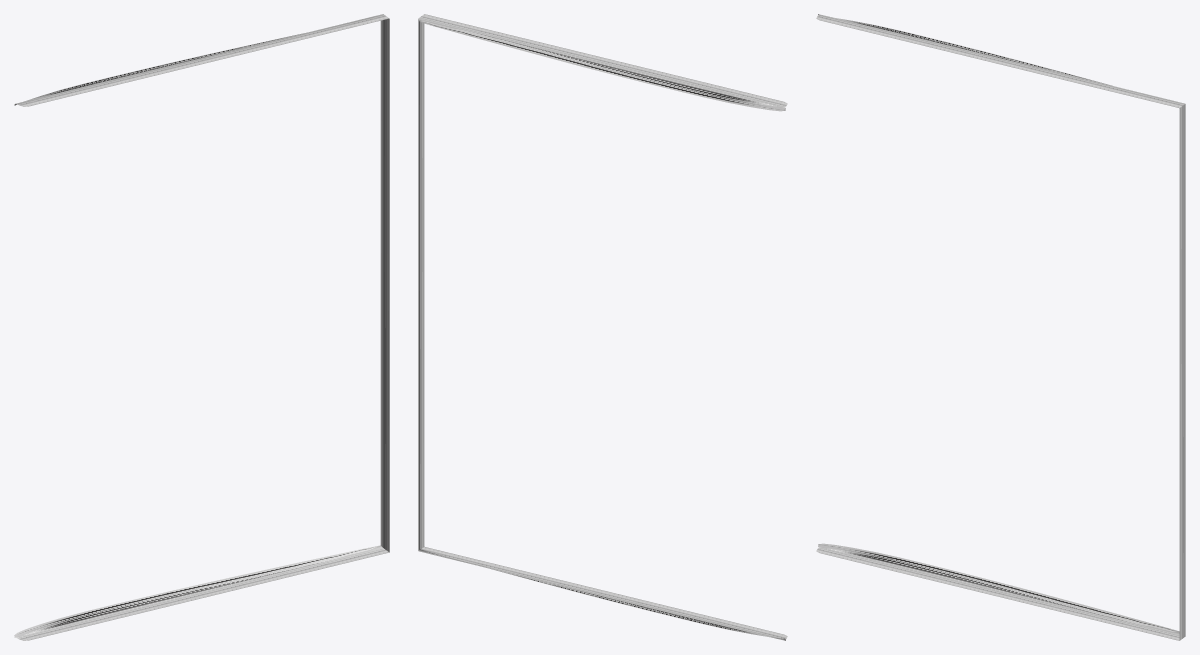
Rendered from MeshBookFront_21_1_GeomSubset_1.obj.
3 views of the same model, side by side, from view 1: azimuth 30°, elevation 25°; view 2: azimuth 150°, elevation 25°; view 3: azimuth 330°, elevation 25° (orthographic).
Visible parts, largest first — view 1: MeshBookFront_21_1_GeomSubset_1; view 2: MeshBookFront_21_1_GeomSubset_1; view 3: MeshBookFront_21_1_GeomSubset_1.
Part boxes in pixels (<box>): MeshBookFront_21_1_GeomSubset_1: <box>14,14,389,640</box>; MeshBookFront_21_1_GeomSubset_1: <box>418,14,787,640</box>; MeshBookFront_21_1_GeomSubset_1: <box>816,14,1185,640</box>.
Bounding box in the file's own units: 0.2611 × 0.3615 × 0.0156.
